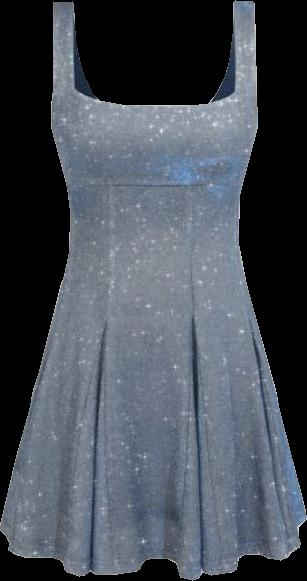Bodice: (51, 2, 257, 239)
Hemline: (0, 514, 306, 580)
Neckline: (69, 0, 241, 110), (65, 179, 244, 188)
Skirt: (0, 240, 306, 579)
